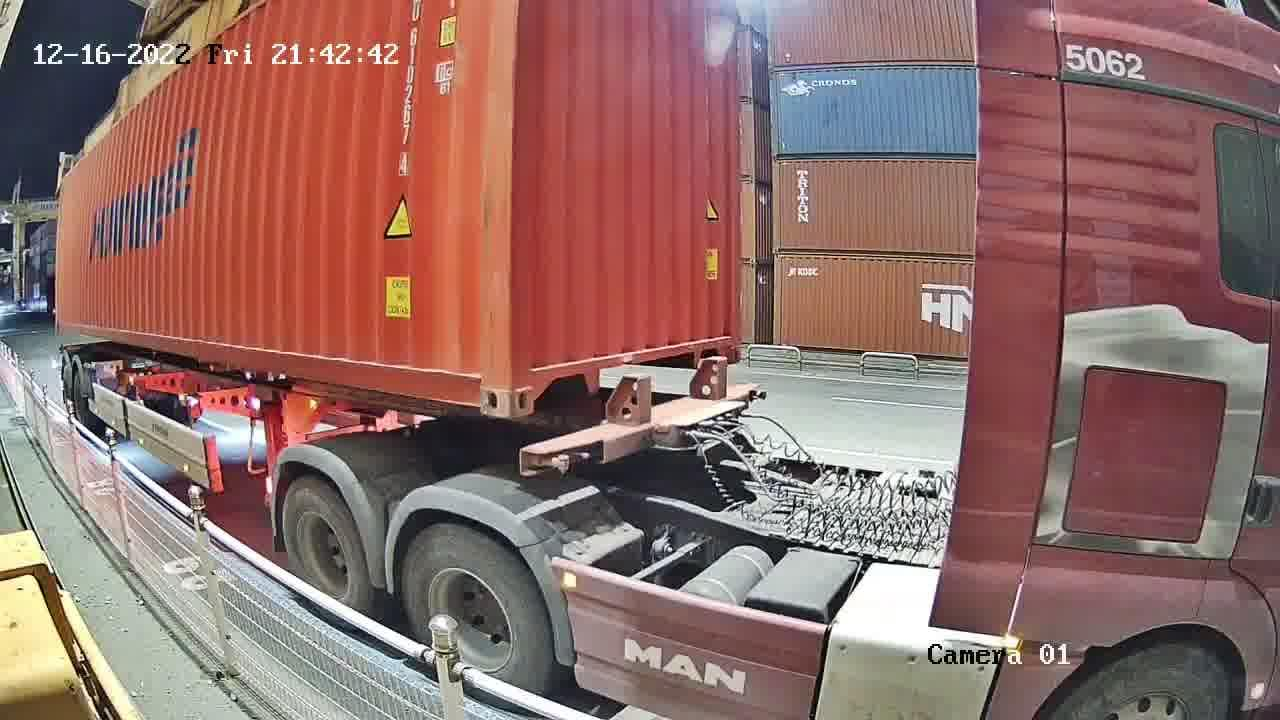Chassis: (515, 381, 764, 484)
Container: (508, 323, 743, 422)
Hole_L: (510, 336, 550, 420)
Hole_R: (457, 336, 511, 419), (711, 323, 742, 367)
Tire: (405, 529, 557, 697), (279, 482, 370, 612)
